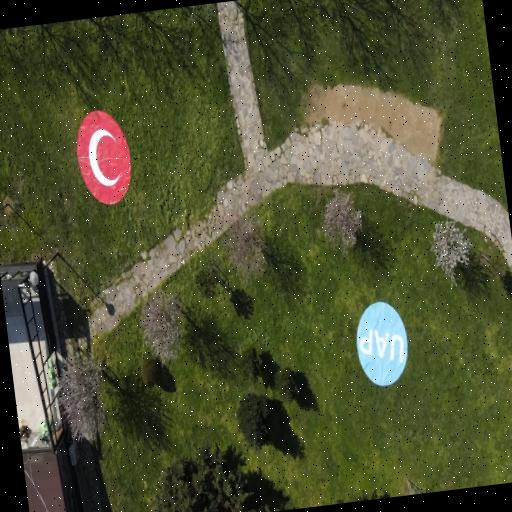UAI: (78, 112, 131, 204)
UAP: (357, 302, 408, 386)
